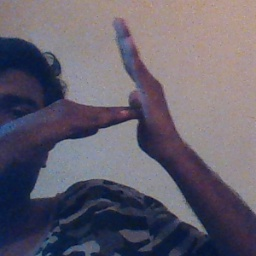Z: (65, 13, 177, 157)
